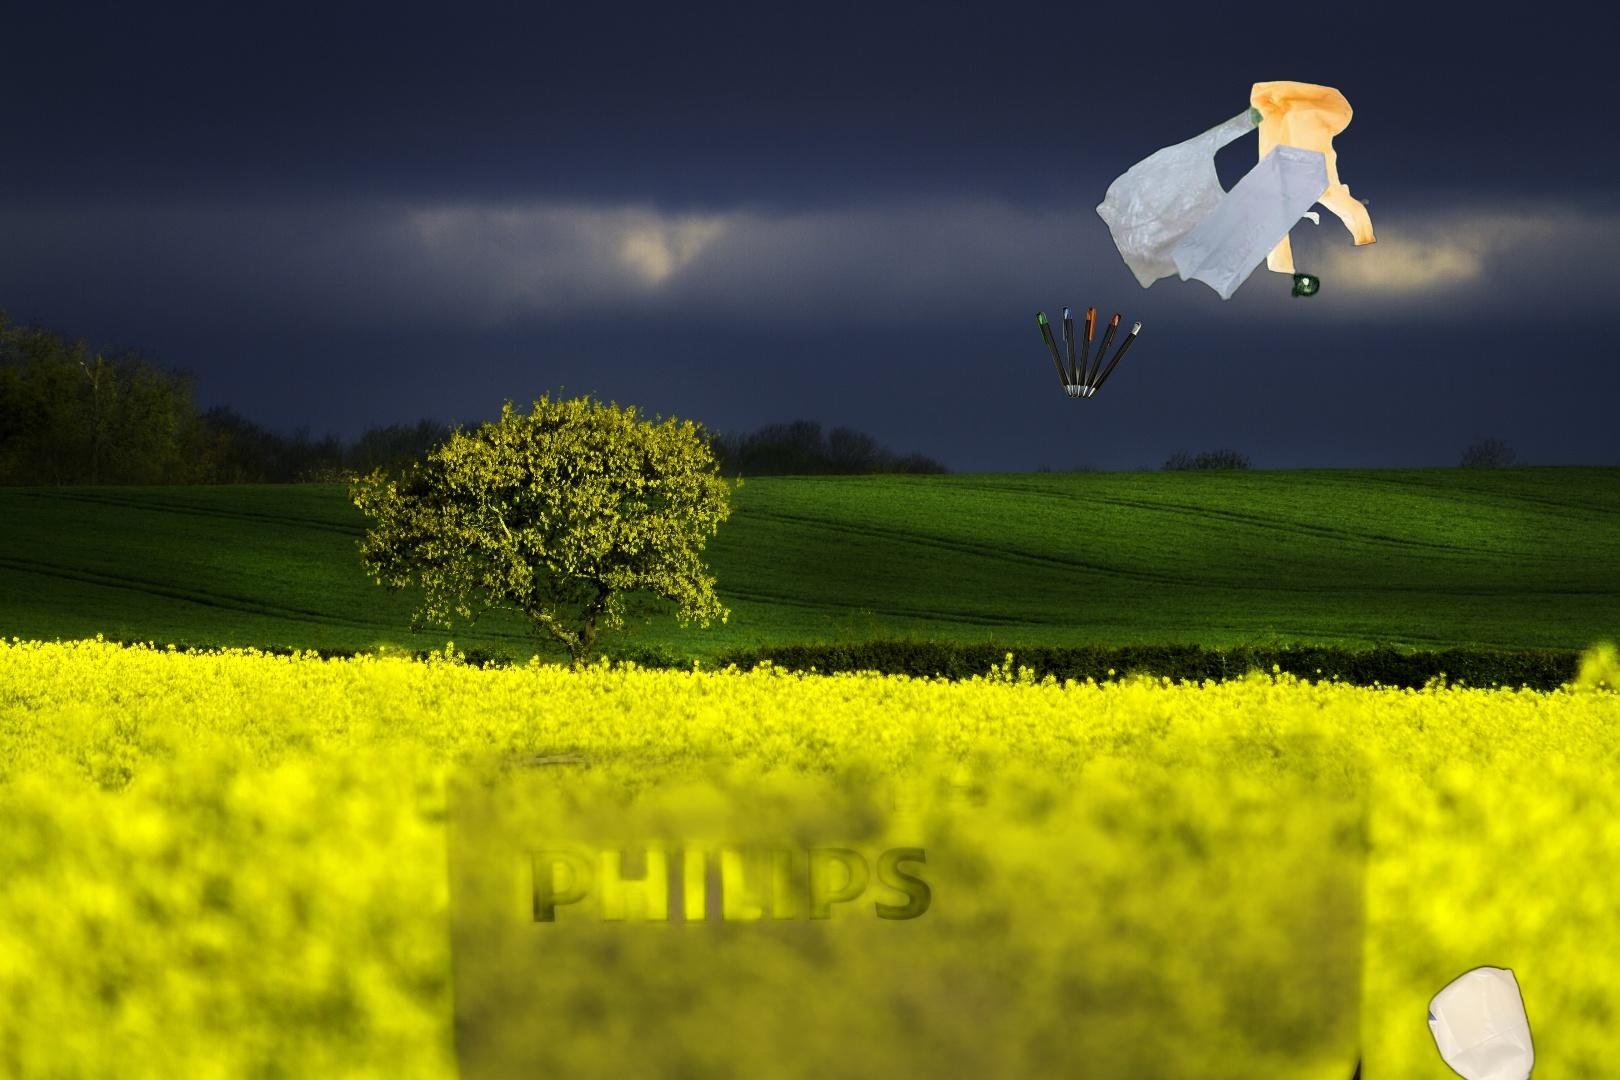penholder: (1033, 303, 1143, 405)
plastic-bag: (1094, 77, 1377, 304)
plastic-bottles: (1046, 667, 1539, 1080)
trashbox-cardboard: (404, 620, 1408, 1080)
